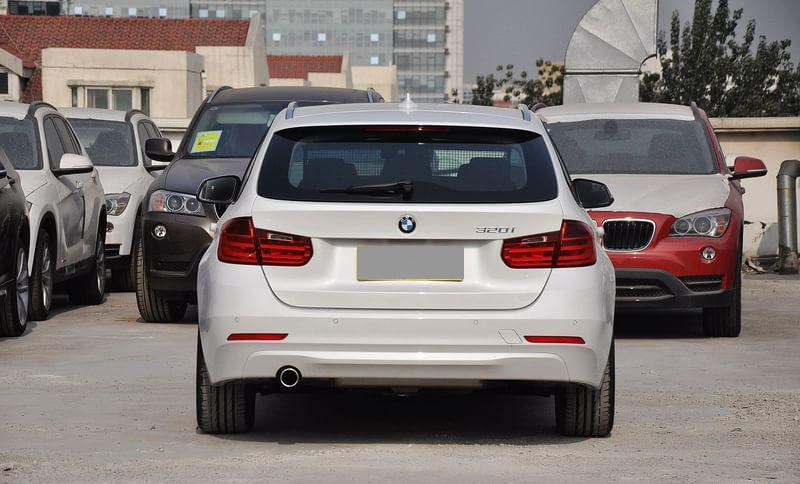Wagon: (193, 89, 618, 438)
